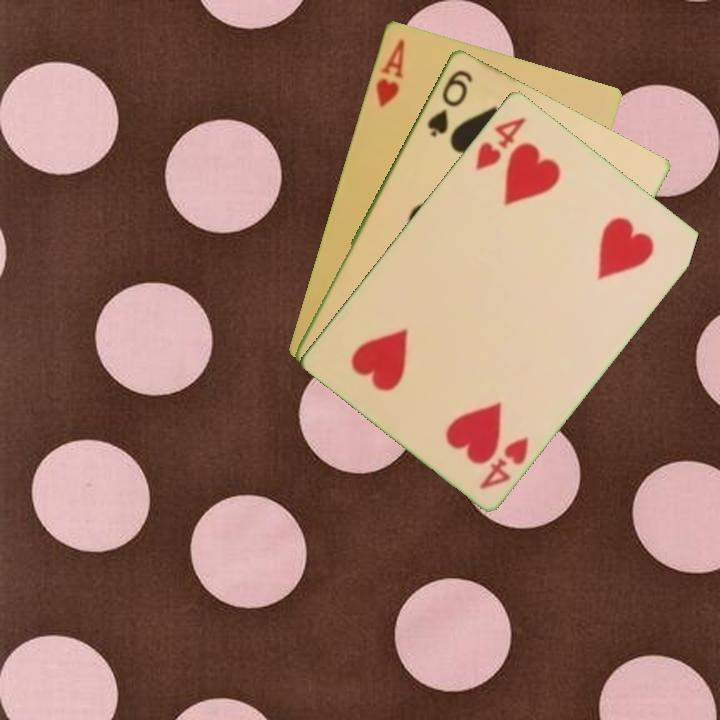4h: (471, 113, 529, 173), (476, 433, 532, 492)
6s: (423, 66, 476, 140)
Ah: (372, 35, 407, 110)
